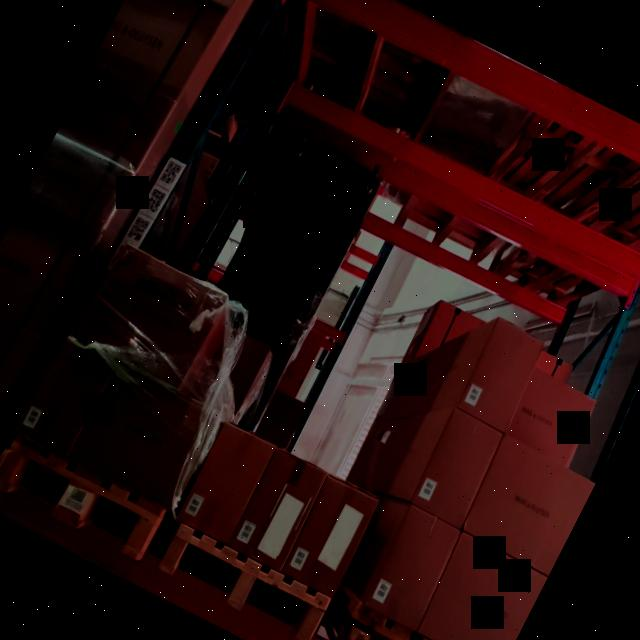box: (72, 244, 229, 390), (68, 363, 217, 510), (14, 337, 117, 459), (176, 423, 277, 546), (228, 449, 327, 572), (365, 507, 461, 633), (281, 476, 379, 599), (411, 409, 503, 530), (457, 318, 544, 435), (193, 329, 271, 422)
